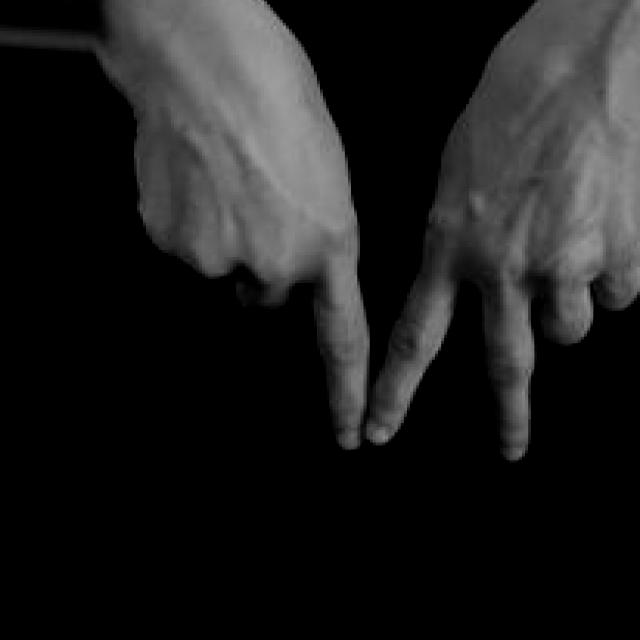N: (128, 0, 640, 481)
